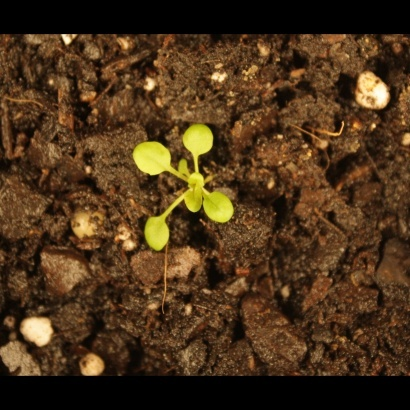leaf: (130, 134, 173, 180), (179, 114, 218, 160), (141, 209, 176, 257), (199, 189, 238, 229), (183, 187, 206, 217), (174, 155, 197, 178), (187, 169, 210, 192)
